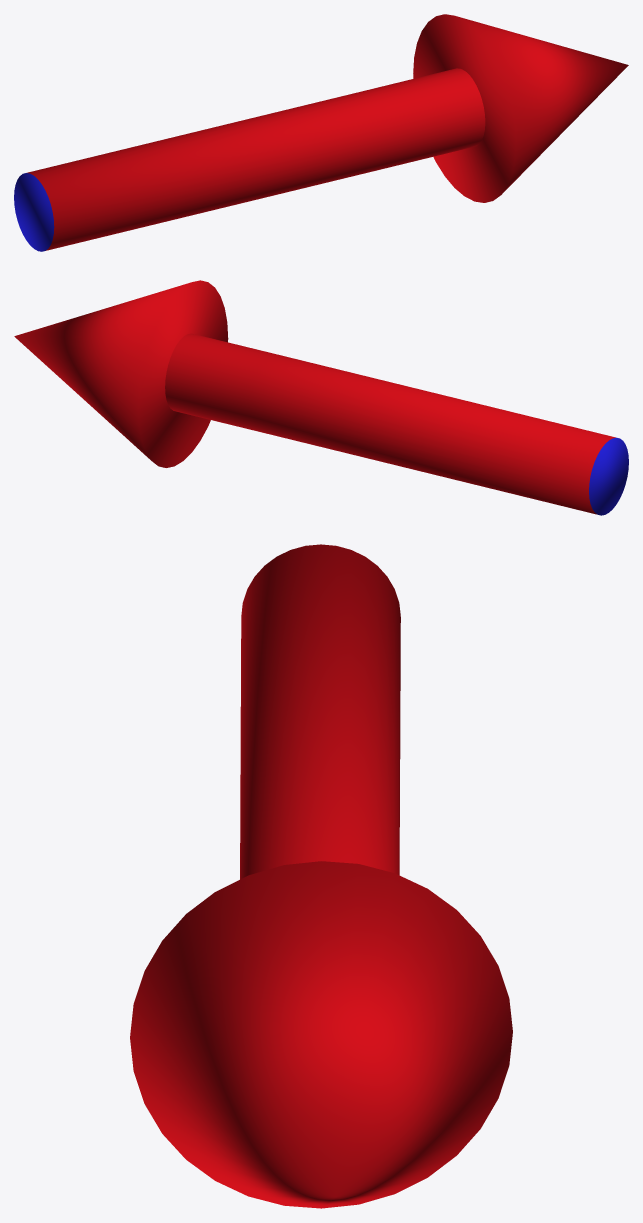
Rendered from XAxis.fbx.
3 renders of one model, top to bottom at view 1: azimuth 30°, elevation 25°; view 2: azimuth 150°, elevation 25°; view 3: azimuth 270°, elevation 25°, orthographic. The views are drawn at different scales.
Parts seen in each view (by area): view 1: Cylinder; view 2: Cylinder; view 3: Cylinder.
Boxes of the visible parts, bbox=[...] form: Cylinder: bbox=[14, 14, 628, 251]; Cylinder: bbox=[14, 280, 628, 515]; Cylinder: bbox=[130, 544, 512, 1208].
Size of the model in its own units: 139 by 38.94 by 38.92.
